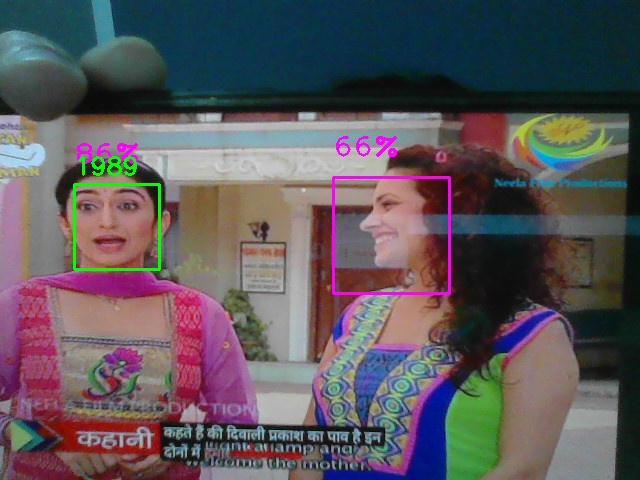fake: (74, 184, 160, 270)
